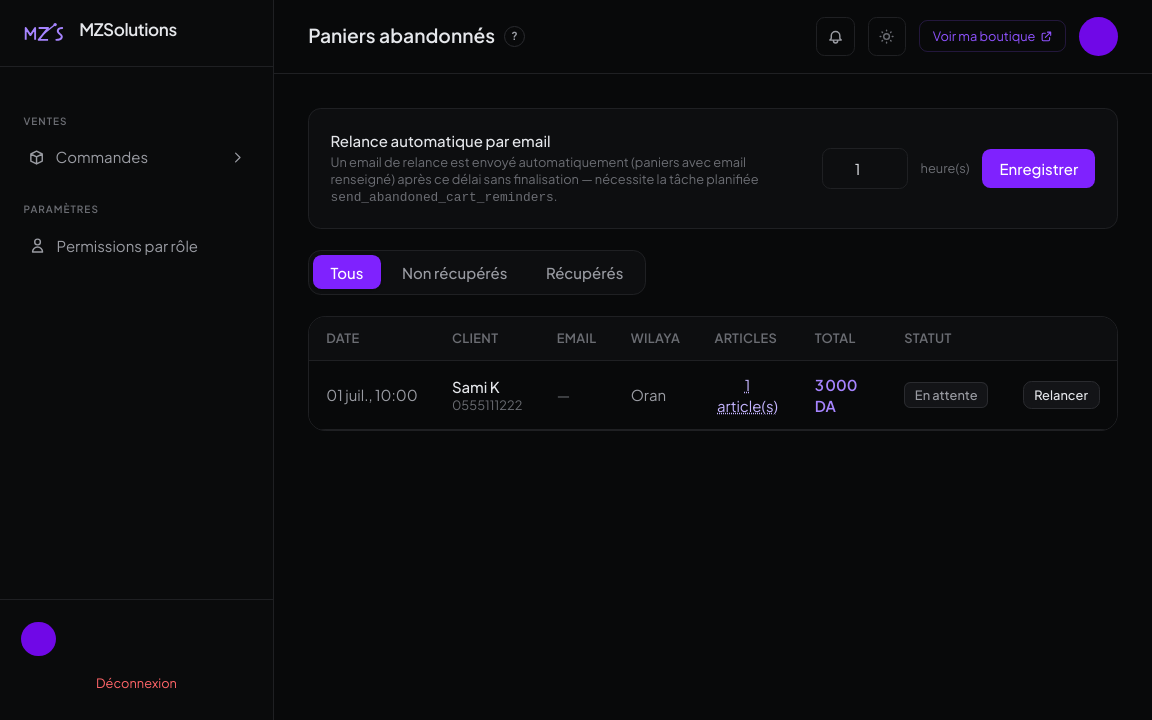
Scenario: AbandonedCartsPage › opens the items modal when clicking the article count
Expected: the text "Sami K" is shown, [452,377,500,396]
Click the button "1 article(s)" at {"x": 747, "y": 395}, box [714,374,780,416]
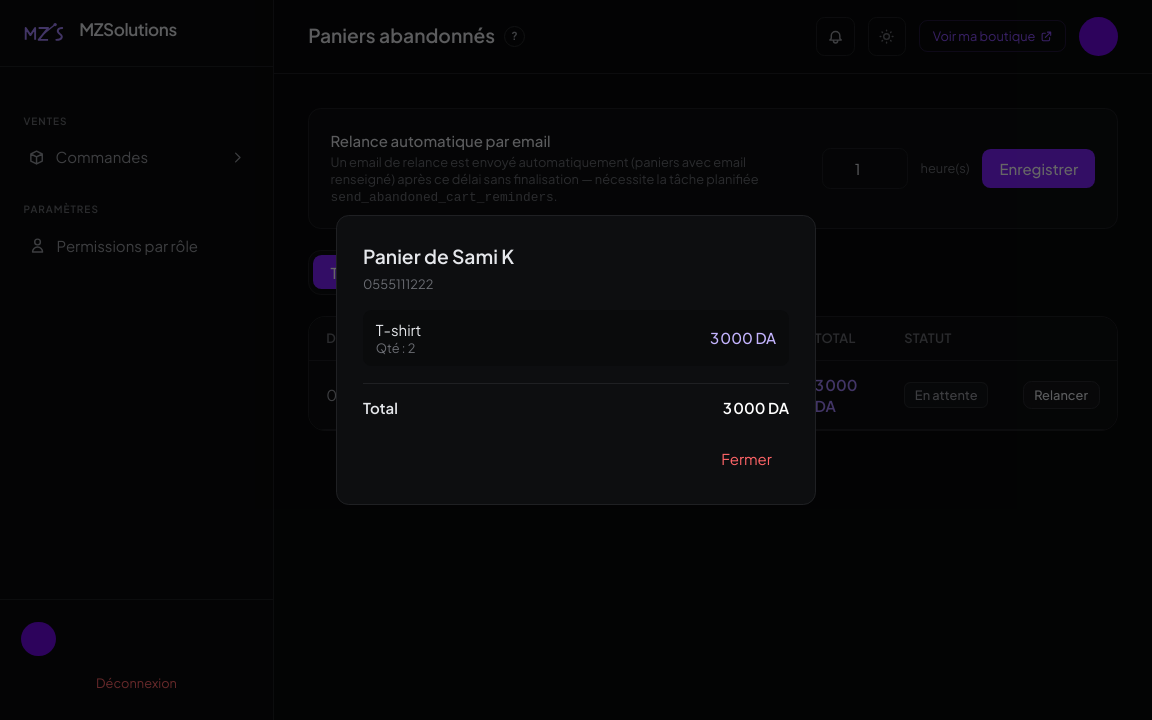
Expected: the text "T-shirt" is shown, [376,319,421,340]
Expected: the text "Qté : 2" is shown, [376,340,421,357]
